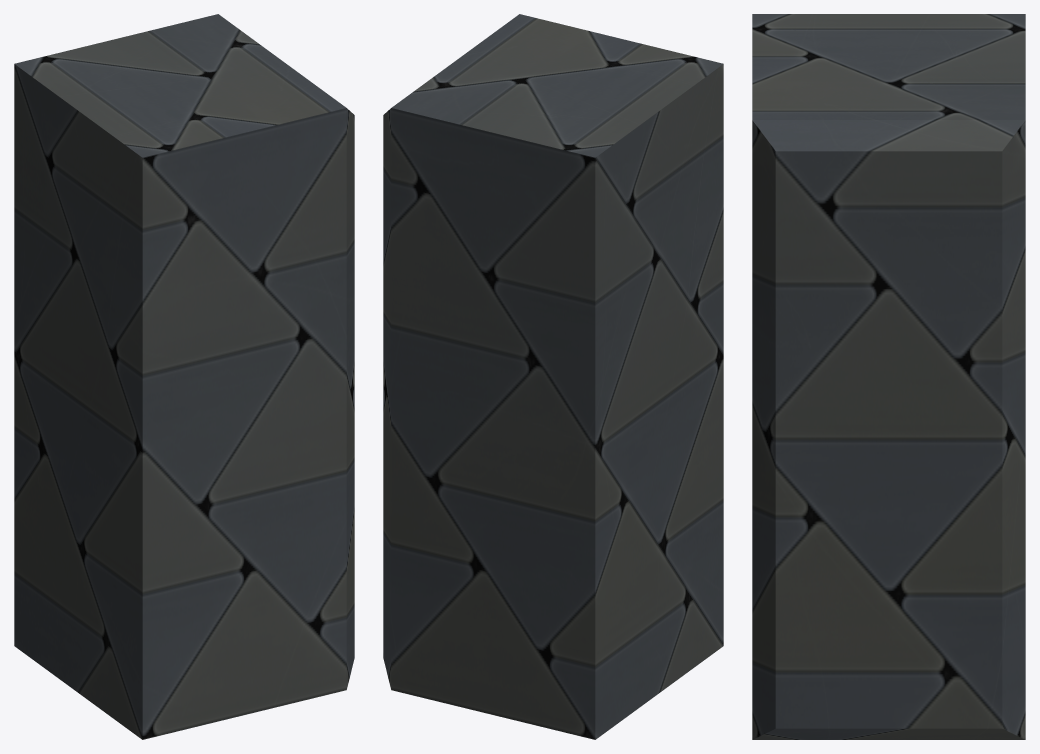
File: LeverBase.fbx
3 views of the same model, side by side, from view 1: azimuth 30°, elevation 25°; view 2: azimuth 150°, elevation 25°; view 3: azimuth 270°, elevation 25° (orthographic). The views are drawn at different scales.
Parts seen in each view (by area): view 1: LeverBase; view 2: LeverBase; view 3: LeverBase.
Part boxes in pixels (left/top/right/bottom): LeverBase: left=14, top=14, right=354, bottom=739; LeverBase: left=383, top=14, right=723, bottom=739; LeverBase: left=752, top=14, right=1025, bottom=739.
Bounding box in the file's own units: 10.05 × 25.04 × 10.01.
Materials: 1 (1 with a texture image).
